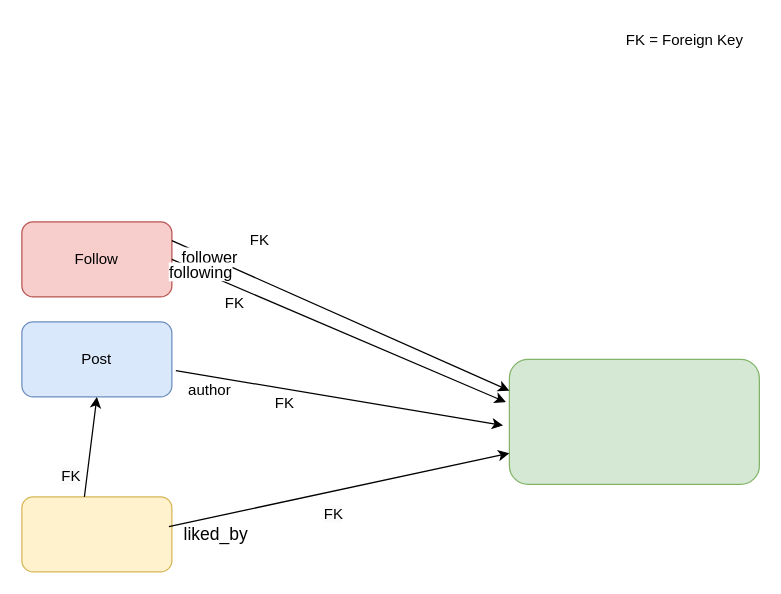
Image size: 781x594. Some labels were removed from this diagram. The shapes that lost their labels are listed below. From the top down, each one's centre as x and y in pixels, then its label:
At (x=633, y=421): "User".
At (x=96, y=534): "Like".
